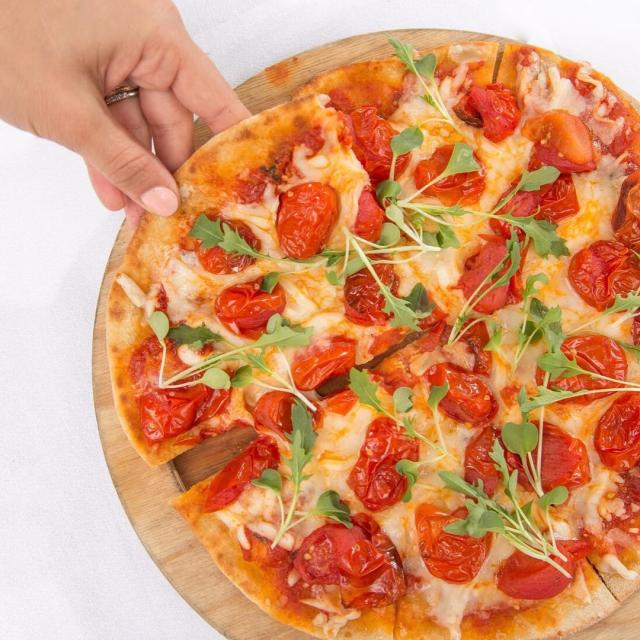pizza: (105, 40, 639, 640)
tomatoes: (344, 415, 421, 514), (534, 333, 628, 409), (340, 512, 410, 610), (407, 505, 493, 584), (200, 434, 280, 518), (371, 305, 443, 395), (494, 538, 592, 600), (293, 522, 387, 586), (512, 418, 592, 492), (564, 239, 640, 312), (291, 338, 360, 416), (276, 180, 339, 264), (412, 142, 488, 210), (348, 105, 412, 185), (212, 275, 290, 340), (421, 363, 501, 426), (527, 111, 601, 175), (140, 382, 212, 443), (462, 240, 517, 315), (593, 387, 640, 472), (342, 255, 397, 326), (196, 220, 261, 276), (461, 425, 506, 502), (491, 175, 544, 239), (442, 320, 498, 377), (469, 84, 519, 142), (251, 390, 321, 430), (608, 172, 640, 255), (536, 173, 578, 224), (351, 190, 387, 246)
